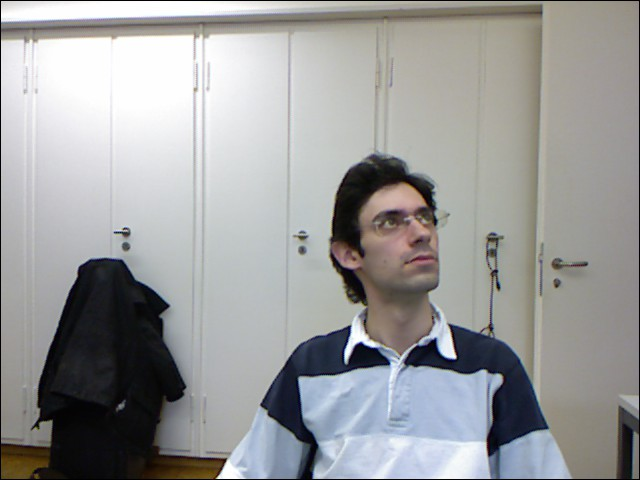deflection: (265, 164, 533, 410)
